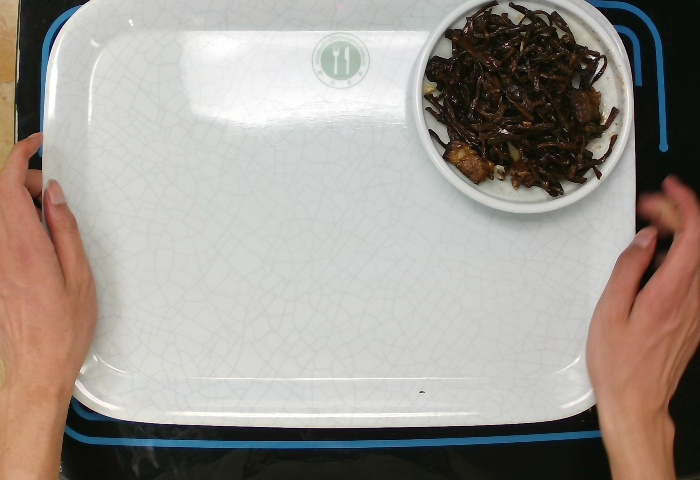JYsf-Xiao_Yuan_Pan: (408, 2, 644, 219)
